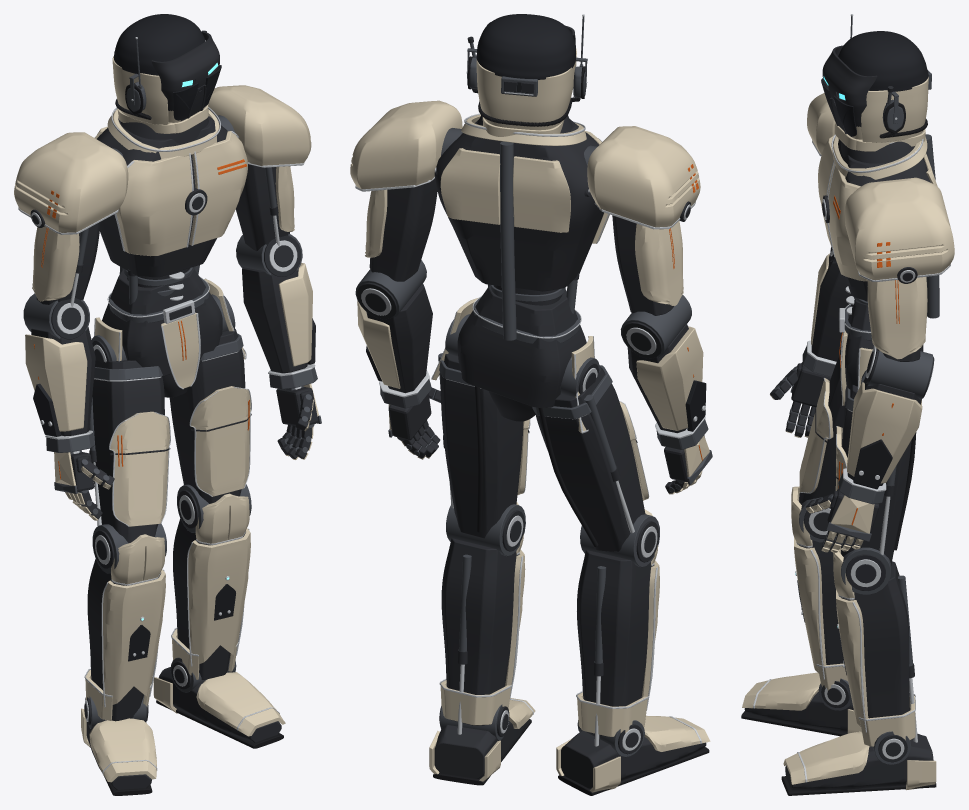
File: mechanik.glb
3 renders of one model, left to right at view 1: azimuth 30°, elevation 25°; view 2: azimuth 150°, elevation 25°; view 3: azimuth 270°, elevation 25°, orthographic. The views are drawn at different scales.
Parts seen in each view (by area): view 1: pauldron_r, chest_r, shin_R_shin_shell, shin_L_shin_shell, thigh_R_thigh_shell, pelvis_core, pauldron_l, thigh_L_thigh_shell, thigh_R_thigh_core, torso_core, arm_R_fore_shell, chest_l (+42 smaller); view 2: torso_core, pelvis_core, thigh_R_thigh_core, shin_L_shin_core, shin_R_shin_core, thigh_L_thigh_core, pauldron_r, pauldron_l, cap, arm_L_upper_core, arm_R_fore_shell, blade_r (+36 smaller); view 3: pauldron_l, shin_L_shin_core, arm_L_upper_shell_r, arm_L_fore_shell, cap, foot_L_toe_cap, foot_L_foot_core, shell, arm_R_fore_body, shin_L_shin_shell, thigh_L_thigh_core, shin_R_shin_shell (+36 smaller).
Boxes of the visible parts, box(x1,y1,x2,y2) form: pauldron_r: box(14, 132, 128, 232); chest_r: box(116, 155, 191, 256); shin_R_shin_shell: box(103, 569, 165, 704); shin_L_shin_shell: box(188, 528, 250, 664); thigh_R_thigh_shell: box(110, 411, 169, 526); pelvis_core: box(102, 268, 222, 376); pauldron_l: box(208, 85, 311, 166); thigh_L_thigh_shell: box(191, 386, 250, 496); thigh_R_thigh_core: box(92, 360, 164, 543); torso_core: box(97, 116, 227, 277); arm_R_fore_shell: box(25, 334, 87, 431); chest_l: box(189, 131, 247, 245); torso_core: box(434, 119, 603, 291); pelvis_core: box(457, 285, 586, 407); thigh_R_thigh_core: box(535, 365, 645, 551); shin_L_shin_core: box(441, 538, 519, 725); shin_R_shin_core: box(577, 550, 653, 736); thigh_L_thigh_core: box(440, 353, 523, 538); pauldron_r: box(587, 126, 700, 227); pauldron_l: box(350, 100, 462, 189); cap: box(476, 14, 575, 79); arm_L_upper_core: box(369, 178, 437, 281); arm_R_fore_shell: box(636, 326, 703, 430); blade_r: box(513, 156, 570, 232); pauldron_l: box(845, 177, 954, 280); shin_L_shin_core: box(841, 561, 909, 718); arm_L_upper_shell_r: box(867, 277, 927, 359); arm_L_fore_shell: box(847, 382, 922, 483); cap: box(838, 31, 928, 91); foot_L_toe_cap: box(783, 731, 869, 784); foot_L_foot_core: box(785, 733, 933, 790); shell: box(861, 77, 928, 142); arm_R_fore_body: box(811, 255, 851, 361); shin_L_shin_shell: box(836, 590, 868, 726); thigh_L_thigh_core: box(841, 385, 911, 565); shin_R_shin_shell: box(794, 537, 826, 673).
Size of the model in its own units: 0.7308 by 1.71 by 0.457.
